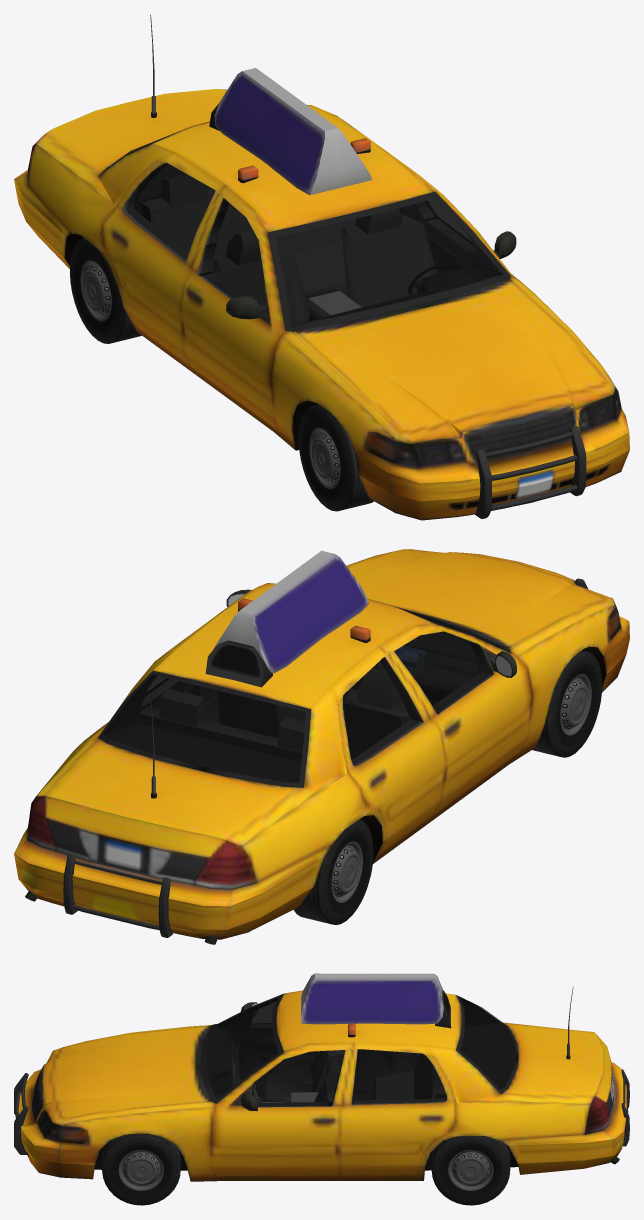
The model's file is Taxi_1.FBX.
The picture shows the model from 3 angles, top to bottom: view 1: azimuth 30°, elevation 25°; view 2: azimuth 150°, elevation 25°; view 3: azimuth 270°, elevation 25°; orthographic projection. The views are drawn at different scales.
Visible parts, largest first — view 1: Body, Door_FR, Door_BR, Wheel_FR, Wheel_BR, Door_FL; view 2: Body, Door_FR, Door_BR, Wheel_BR, Wheel_FR, Door_BL, Door_FL; view 3: Body, Door_FL, Door_BL, Wheel_FL, Wheel_BL, Door_FR, Door_BR.
Part boxes in pixels (box(x1,y1,x2,y2)): Body: box(14, 14, 629, 520); Door_FR: box(181, 185, 285, 430); Door_BR: box(102, 152, 225, 365); Wheel_FR: box(298, 404, 373, 511); Wheel_BR: box(70, 238, 141, 343); Door_FL: box(382, 149, 516, 279); Body: box(14, 549, 629, 944); Door_FR: box(380, 624, 533, 815); Door_BR: box(331, 647, 446, 853); Wheel_BR: box(294, 819, 373, 924); Wheel_FR: box(532, 650, 602, 757); Door_BL: box(137, 611, 223, 723); Door_FL: box(199, 584, 263, 723); Body: box(14, 973, 629, 1181); Door_FL: box(210, 1042, 353, 1176); Door_BL: box(338, 1042, 457, 1176); Wheel_FL: box(102, 1133, 180, 1205); Wheel_BL: box(431, 1135, 510, 1205); Door_FR: box(216, 998, 315, 1093); Door_BR: box(353, 1049, 421, 1093).
Bounding box in the file's own units: 54.31 × 46.98 × 141.
